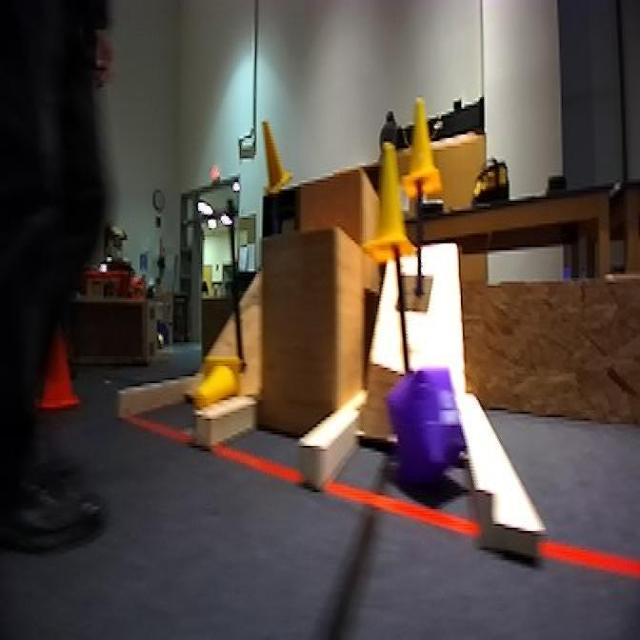frc_cone: (357, 130, 412, 268), (399, 94, 443, 199), (186, 354, 246, 417), (259, 116, 294, 192)
frc_cube: (398, 361, 472, 502)
